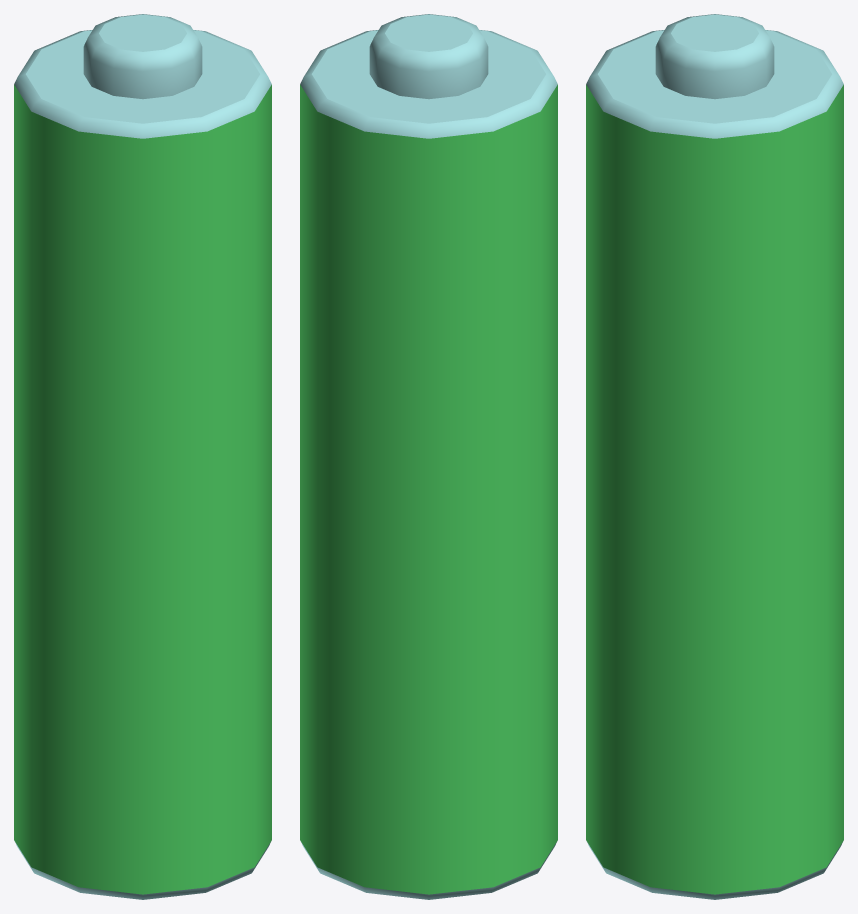
The model's file is Battery.fbx.
3 renders of one model, left to right at view 1: azimuth 30°, elevation 25°; view 2: azimuth 150°, elevation 25°; view 3: azimuth 270°, elevation 25°, orthographic.
Visible parts, largest first — view 1: Cylinder; view 2: Cylinder; view 3: Cylinder.
Part boxes in pixels (box(x1,y1,x2,y2)): Cylinder: box(14, 14, 271, 899); Cylinder: box(300, 14, 557, 899); Cylinder: box(586, 14, 843, 899).
Bounding box in the file's own units: 0.5206 × 1.82 × 0.5206.
